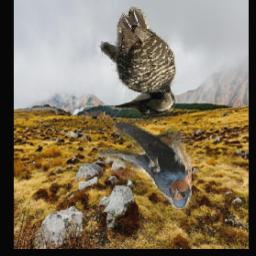Swallow: (98, 122, 193, 209)
Woodpecker: (97, 6, 176, 117)
